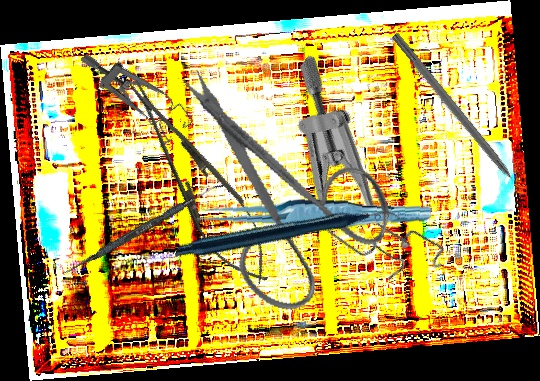Handpiece: (174, 134, 401, 338)
Hook Surgical: (389, 31, 531, 203)
Iris Scissors: (133, 64, 413, 329)
Needle Holder: (110, 66, 288, 297)
Spatula Surgical: (62, 176, 226, 280)
Speculum: (226, 50, 499, 305), (78, 27, 196, 155)
Tissue Forceps: (192, 187, 432, 240)
